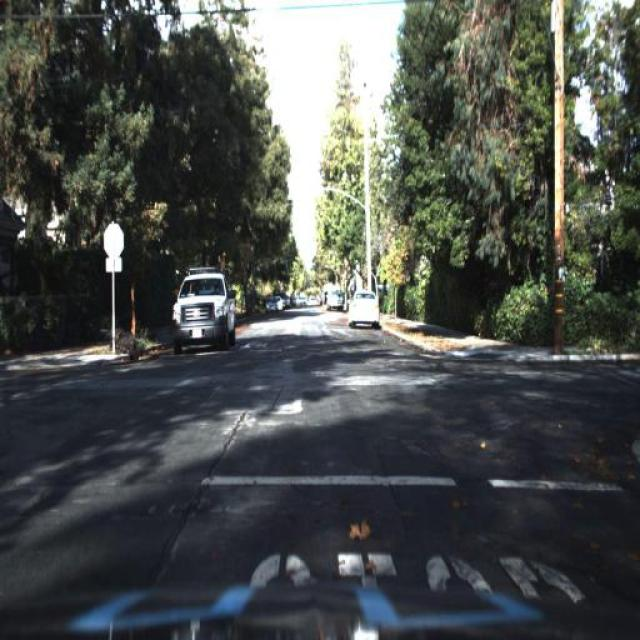car: (171, 266, 235, 358), (343, 287, 381, 332), (345, 287, 381, 333), (321, 276, 344, 309), (260, 301, 278, 327), (262, 294, 279, 317)
